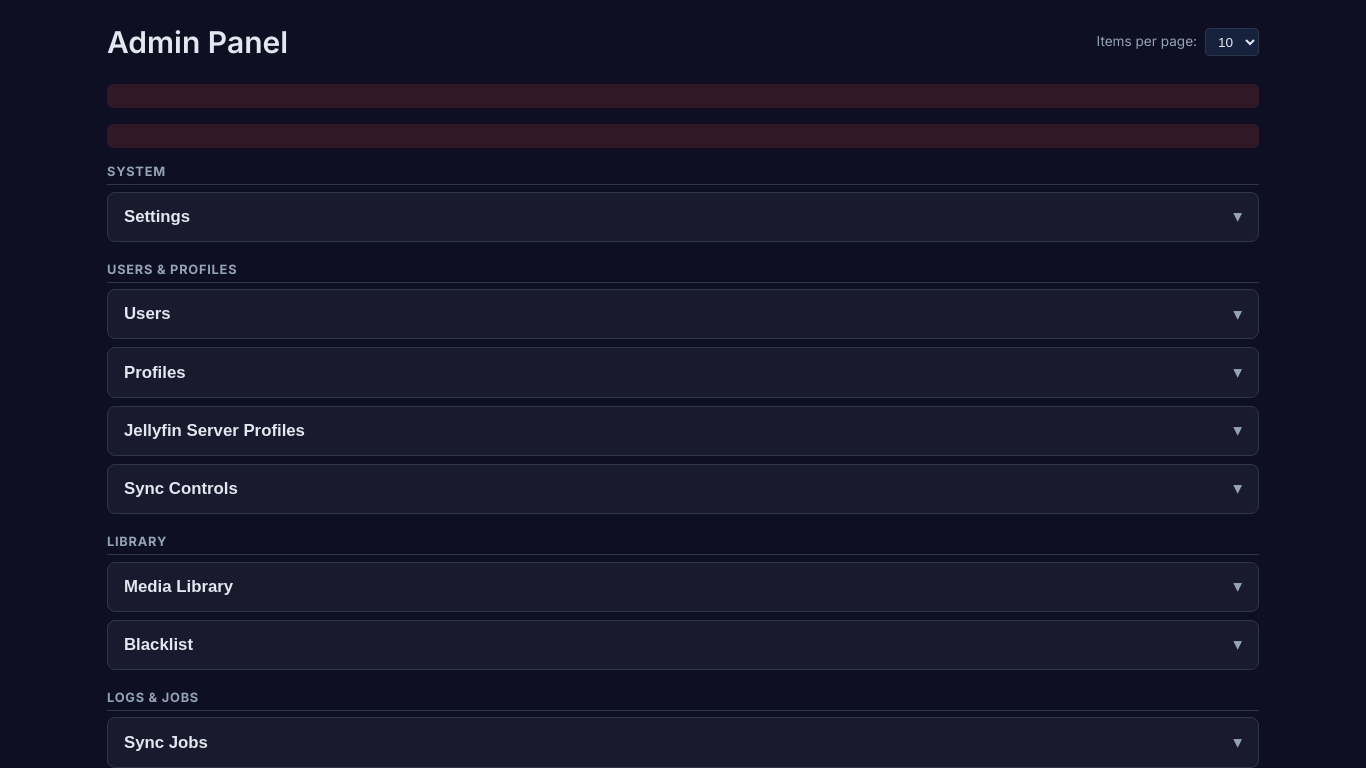
Admin Flow › expanding sync controls section shows sync buttons
Click the button with class "admin-section__toggle" showing "Sync Controls ▾" at point(181, 488), box [124,478,1242,499]
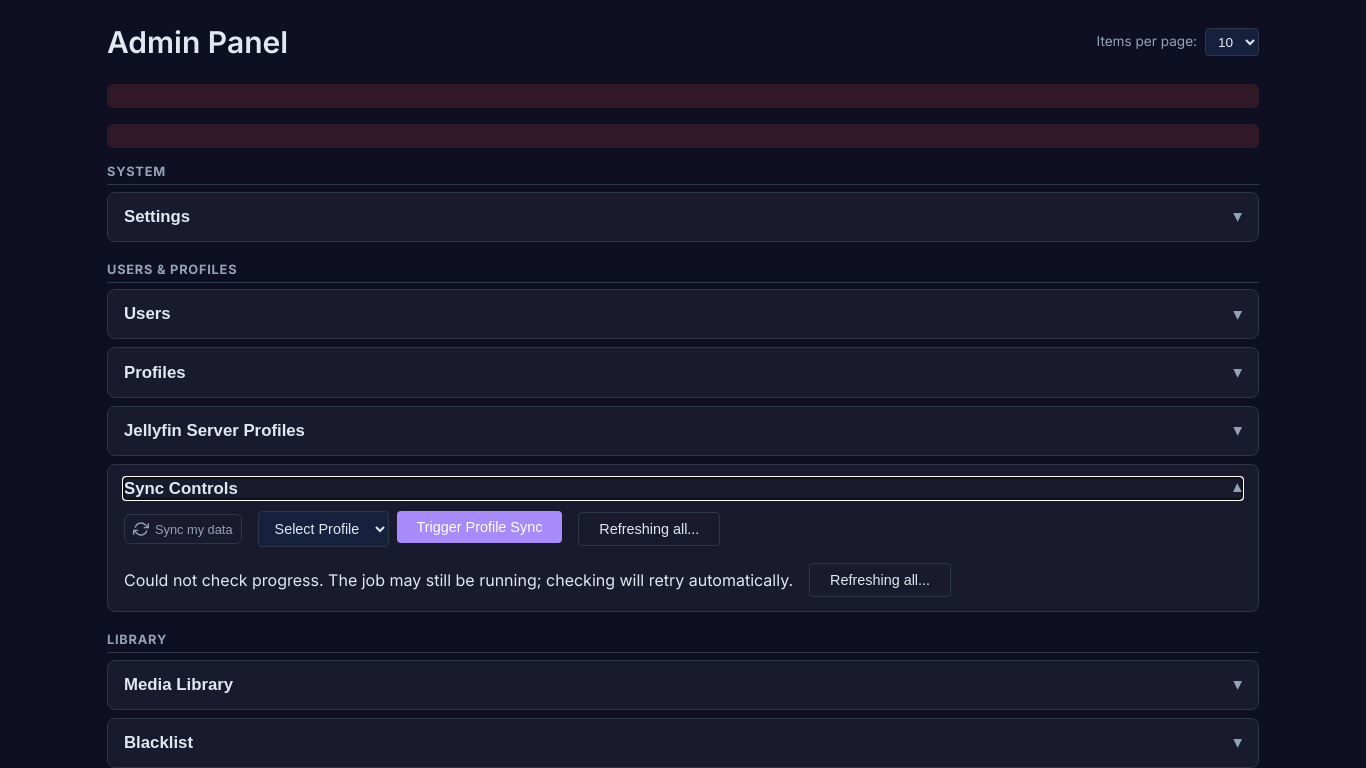
Check: the element with class "sync-controls" is shown, box [124,511,951,597]
